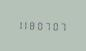eight: (31, 19, 37, 30)
one: (17, 19, 23, 30), (24, 19, 30, 30)
seven: (45, 20, 51, 31), (59, 20, 65, 31)
zero: (38, 19, 44, 31), (52, 20, 58, 31)
